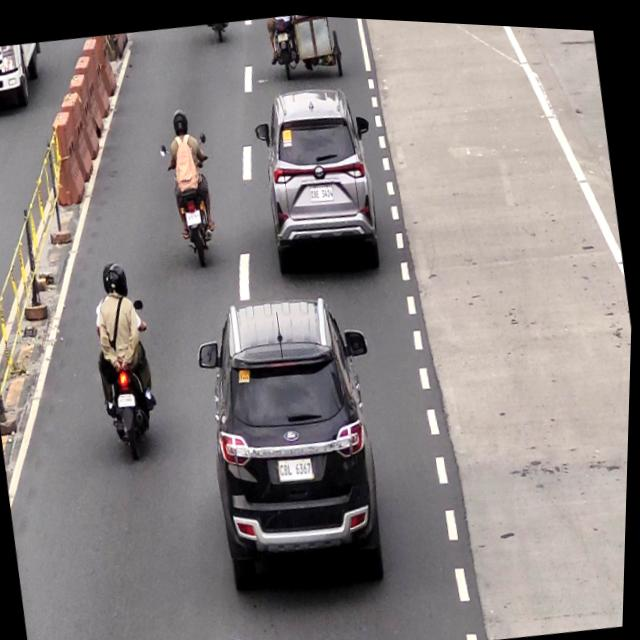Car: (194, 285, 394, 593), (254, 81, 385, 275)
License-Plate: (280, 452, 318, 484), (310, 180, 336, 199), (116, 390, 140, 409), (184, 206, 204, 225)
Motorcycle: (85, 259, 169, 465), (158, 101, 225, 269)
Tricycle: (265, 11, 349, 83)
